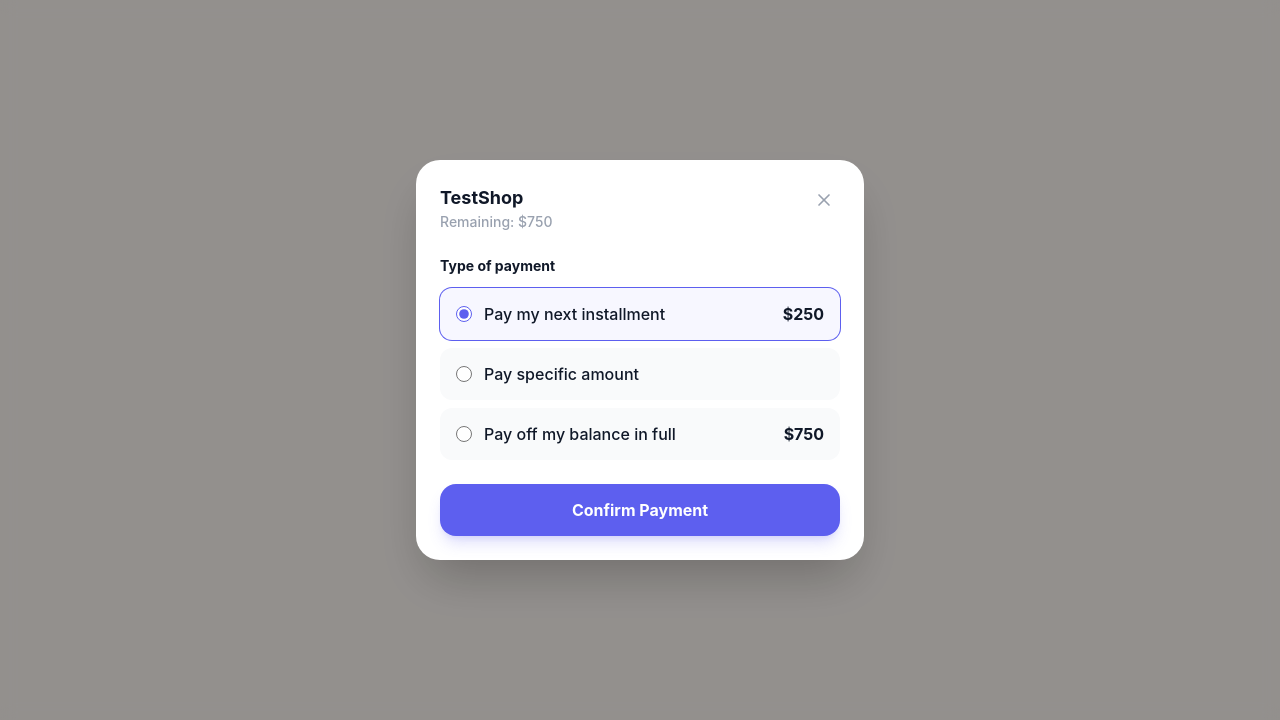
PaymentModal › reveals amount input when "specific" option selected
Click the label with test id "payment-option-specific": (640, 374) [440,348,840,400]
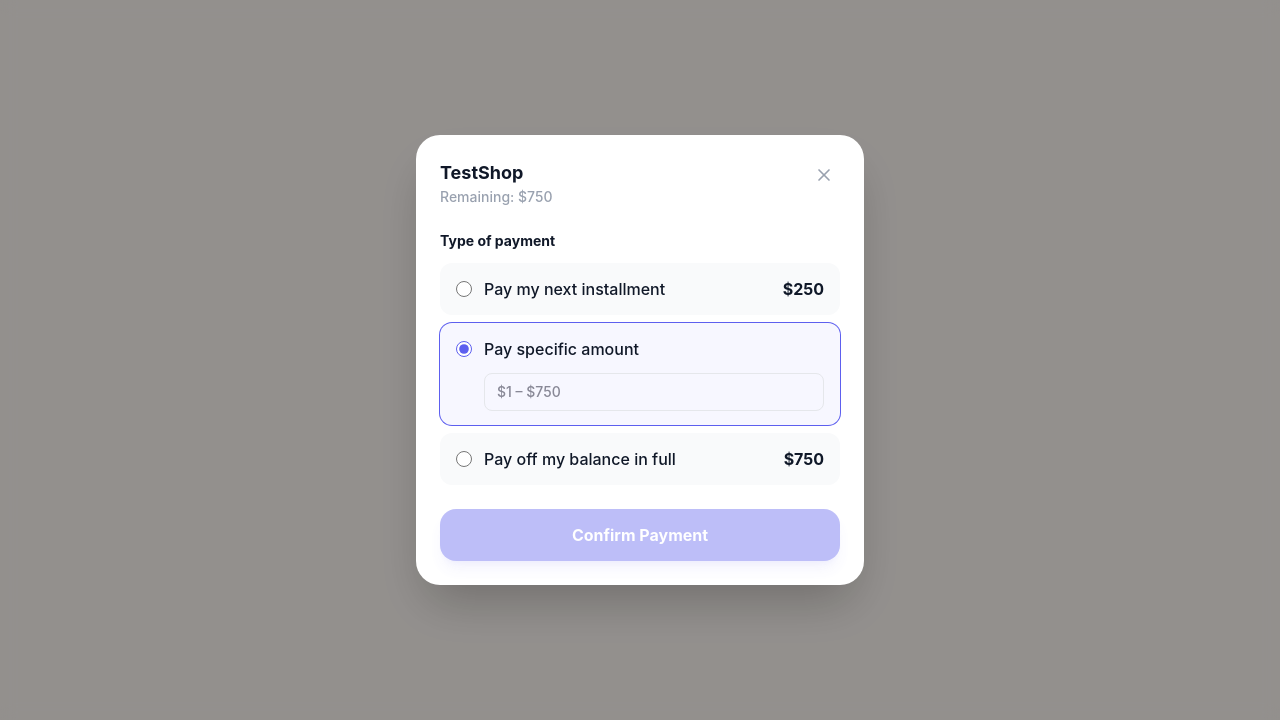
Result: the number field with test id "specific-amount-input" is shown at [484,373,824,411]
